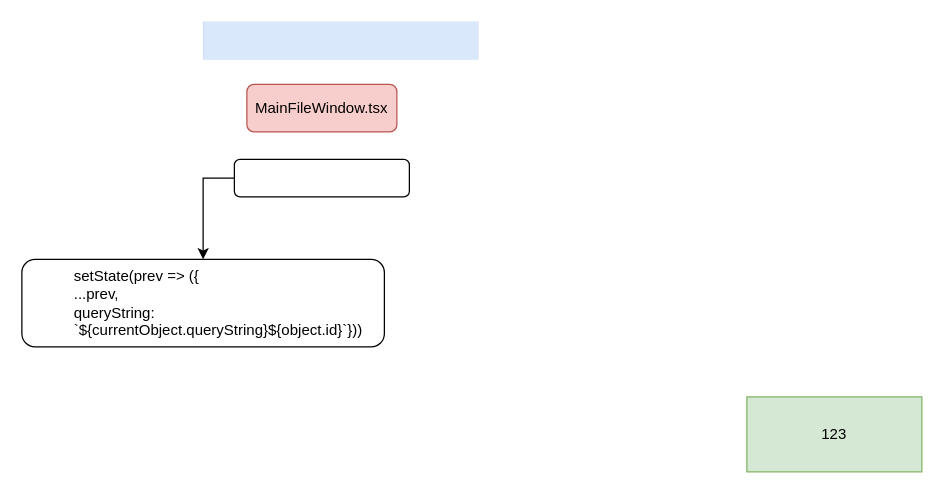
Some shapes in this 944 by 494 pixel diagram are drawn without their labels. The centre of each missing label's shape, as x and y in pixels:
if (currentObject.inner): point (321, 177)
Открываем папку страницы: point (340, 40)
